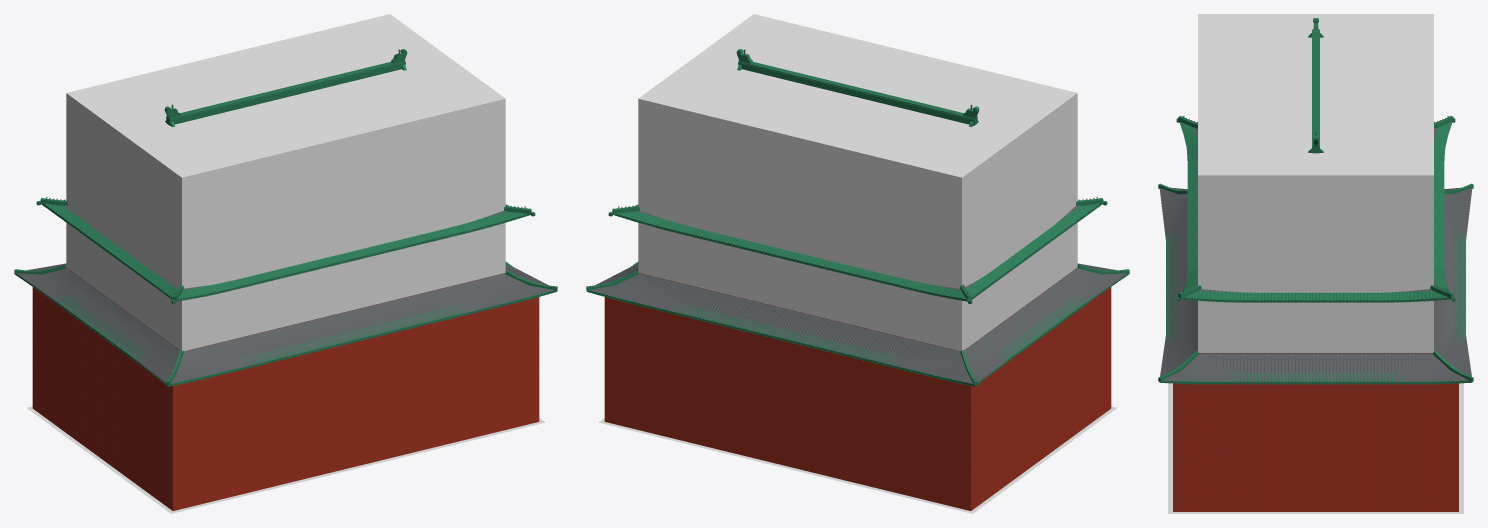
The model's file is gulou.glb.
3 views of the same model, side by side, from view 1: azimuth 30°, elevation 25°; view 2: azimuth 150°, elevation 25°; view 3: azimuth 270°, elevation 25° (orthographic). The views are drawn at different scales.
Parts seen in each view (by area): view 1: COL_hall, Massing, DrumTower, FOOTPRINT_drum; view 2: COL_hall, Massing, DrumTower, FOOTPRINT_drum; view 3: COL_hall, Massing, DrumTower, FOOTPRINT_drum.
Boxes of the visible parts, left/top/right/bottom form: COL_hall: left=66, top=14, right=505, bottom=351; Massing: left=16, top=61, right=554, bottom=510; DrumTower: left=14, top=49, right=557, bottom=386; FOOTPRINT_drum: left=26, top=406, right=545, bottom=513; COL_hall: left=638, top=14, right=1077, bottom=351; Massing: left=589, top=61, right=1127, bottom=510; DrumTower: left=586, top=49, right=1129, bottom=386; FOOTPRINT_drum: left=598, top=406, right=1117, bottom=513; COL_hall: left=1198, top=14, right=1433, bottom=352; Massing: left=1159, top=30, right=1472, bottom=511; DrumTower: left=1158, top=18, right=1473, bottom=384; FOOTPRINT_drum: left=1168, top=383, right=1463, bottom=513.
Bounding box in the file's own units: 56.42 × 46.55 × 38.62.
12 materials, 3 textured.
